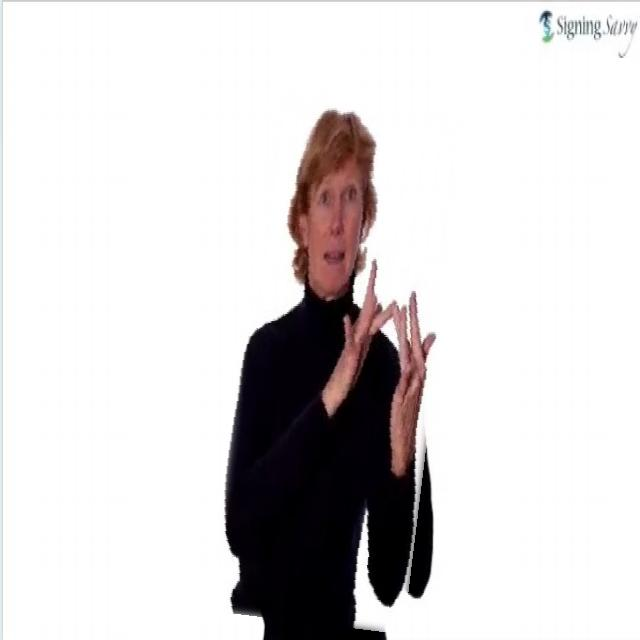Internet: (224, 102, 452, 629)
